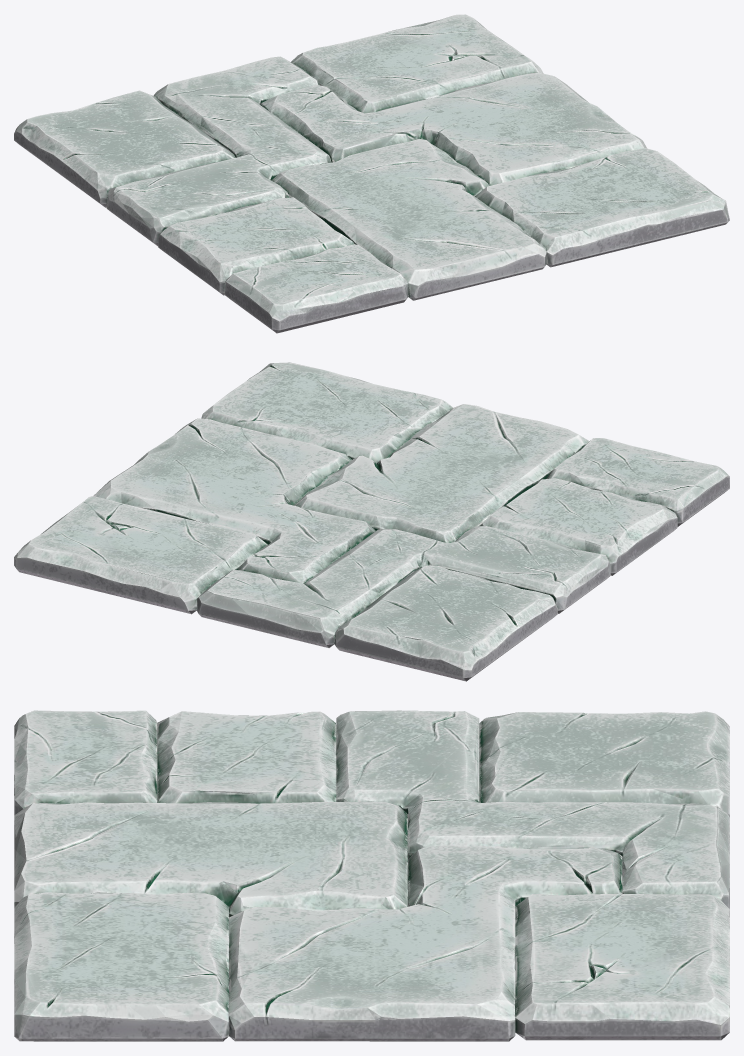
File: low_poly_stylized_ground.glb
3 renders of one model, top to bottom at view 1: azimuth 30°, elevation 25°; view 2: azimuth 150°, elevation 25°; view 3: azimuth 270°, elevation 25°, orthographic. The views are drawn at different scales.
Parts seen in each view (by area): view 1: Merged_Cube; view 2: Merged_Cube; view 3: Merged_Cube.
Boxes of the visible parts, bbox=[...] form: Merged_Cube: bbox=[14, 14, 729, 333]; Merged_Cube: bbox=[14, 362, 729, 681]; Merged_Cube: bbox=[14, 710, 729, 1041].
Bounding box in the file's own units: 2 × 0.1102 × 2.
Materials: 1 (1 with a texture image).
